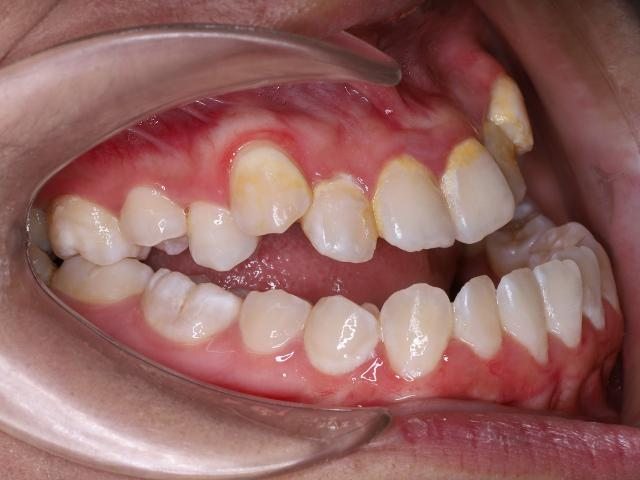canine class III full class: (226, 144, 456, 376)
molar class III full class: (46, 195, 242, 359)
